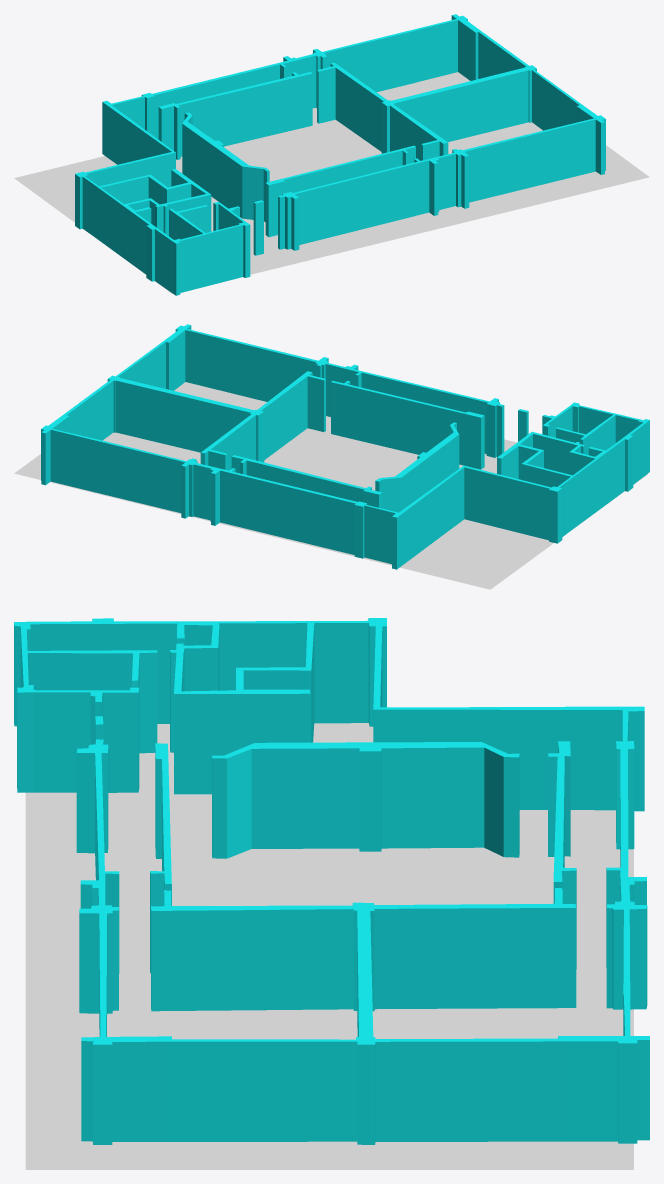
File: Old - First.fbx
3 renders of one model, top to bottom at view 1: azimuth 30°, elevation 25°; view 2: azimuth 150°, elevation 25°; view 3: azimuth 270°, elevation 25°, orthographic. The views are drawn at different scales.
Parts seen in each view (by area): view 1: Building 1-1 WallMap, Plane; view 2: Building 1-1 WallMap, Plane; view 3: Building 1-1 WallMap, Plane.
Boxes of the visible parts, box(x1,y1,x2,y2) form: Building 1-1 WallMap: box(75, 14, 605, 295); Plane: box(14, 72, 649, 293); Building 1-1 WallMap: box(41, 324, 649, 569); Plane: box(14, 382, 647, 589); Building 1-1 WallMap: box(14, 618, 649, 1144); Plane: box(25, 723, 633, 1169).
Bounding box in the file's own units: 4832 × 500 × 2876.
